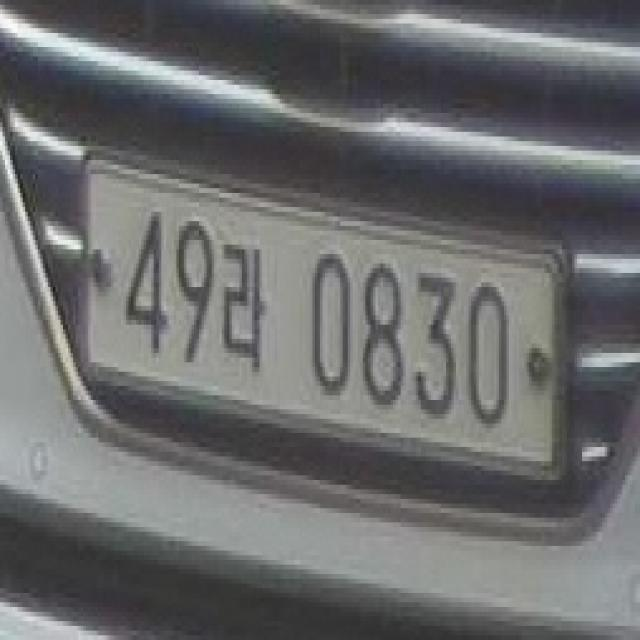0: (466, 264, 514, 442), (310, 232, 354, 409)
3: (409, 259, 462, 432)
4: (124, 198, 174, 374)
8: (362, 248, 406, 410)
9: (176, 201, 215, 372)
la: (220, 238, 272, 390)
license_plate: (69, 130, 576, 511)
